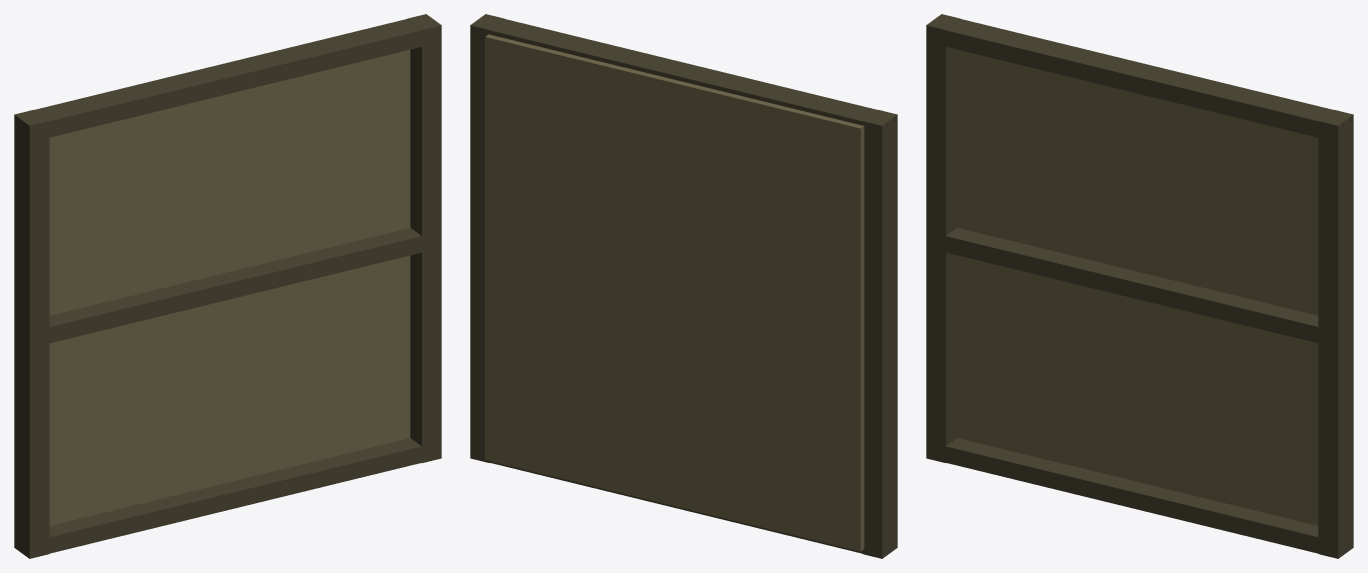
File: shelf.fbx
3 views of the same model, side by side, from view 1: azimuth 30°, elevation 25°; view 2: azimuth 150°, elevation 25°; view 3: azimuth 330°, elevation 25° (orthographic).
Parts seen in each view (by area): view 1: shelf; view 2: shelf; view 3: shelf.
Part boxes in pixels (bbox=[...]): shelf: bbox=[14, 14, 441, 558]; shelf: bbox=[470, 14, 897, 558]; shelf: bbox=[926, 14, 1353, 558].
Bounding box in the file's own units: 294 × 295 × 23.5.
